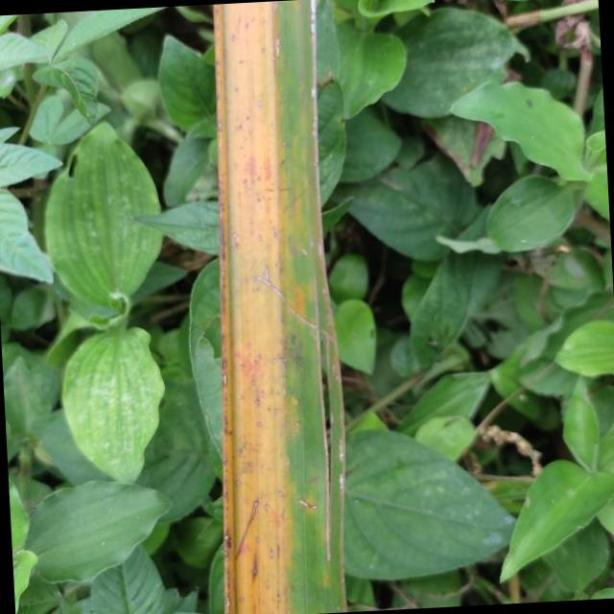Megnesium: (211, 0, 350, 614)
